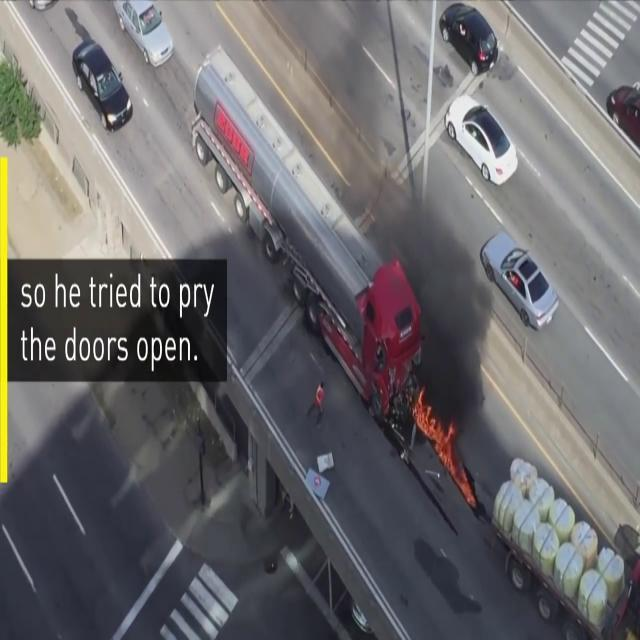Fire: (412, 384, 470, 482)
Smoke: (360, 138, 495, 420)
